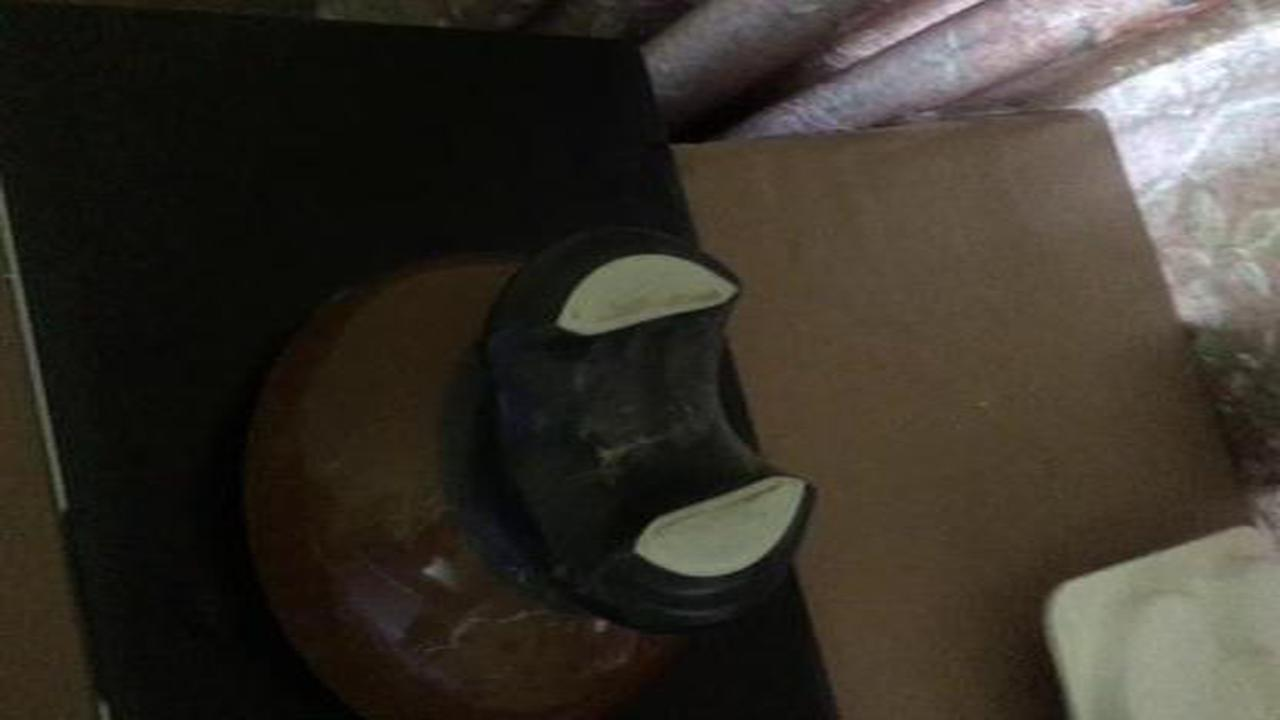insulator_pin: (210, 201, 834, 720)
